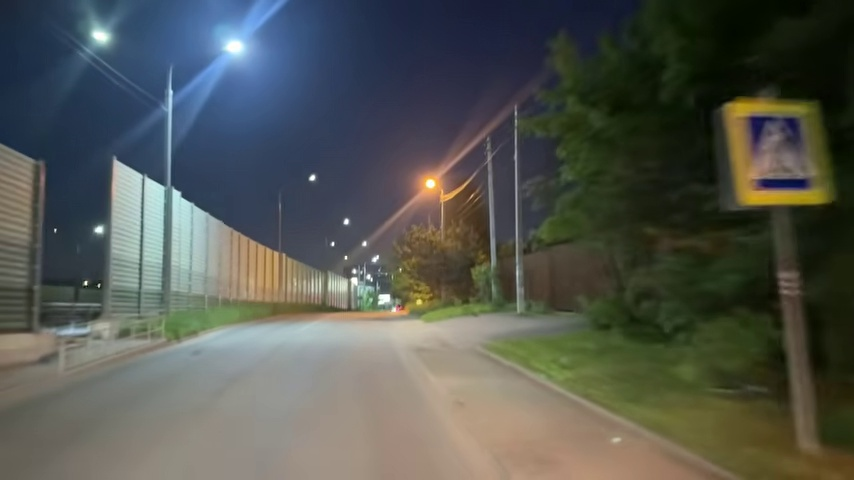acesa: (418, 173, 442, 198), (89, 25, 112, 47), (224, 37, 245, 56), (340, 216, 353, 230)
apagada: (305, 171, 320, 188)
